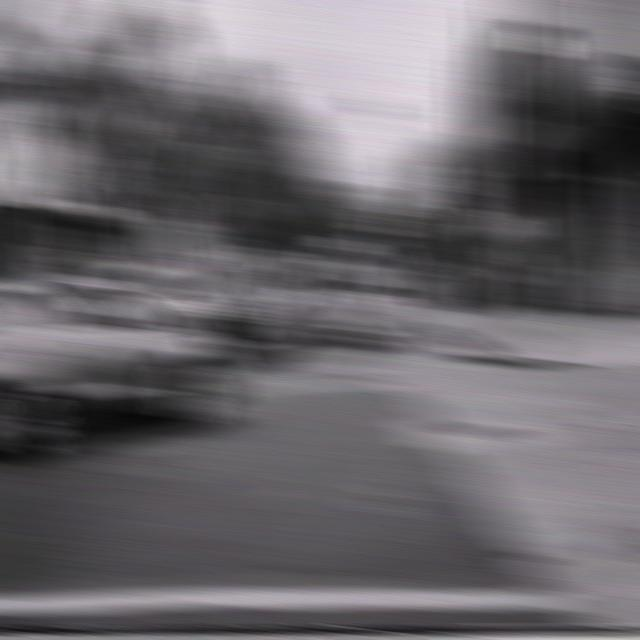speedLimit25: (440, 164, 484, 214)
